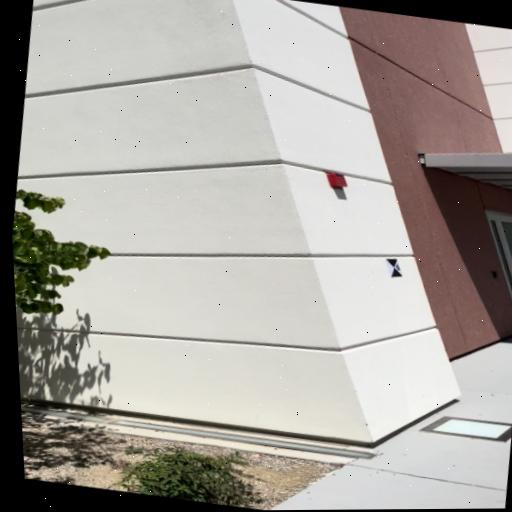target6: (386, 259, 403, 278)
